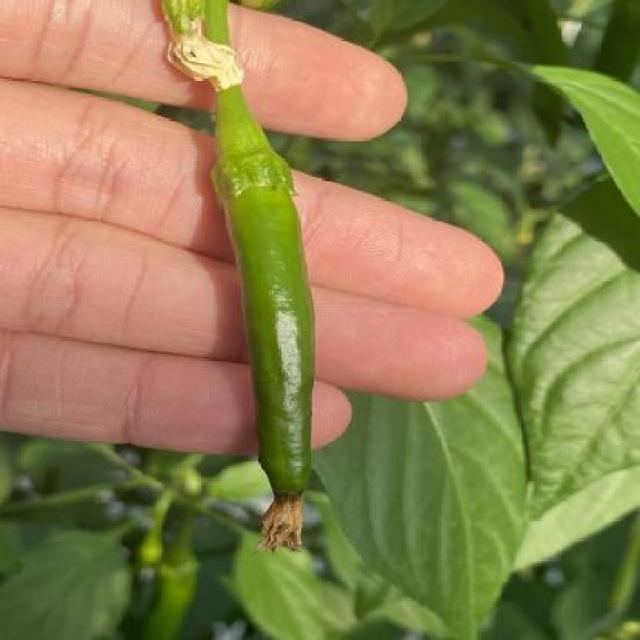green chilli: (222, 186, 316, 494)
